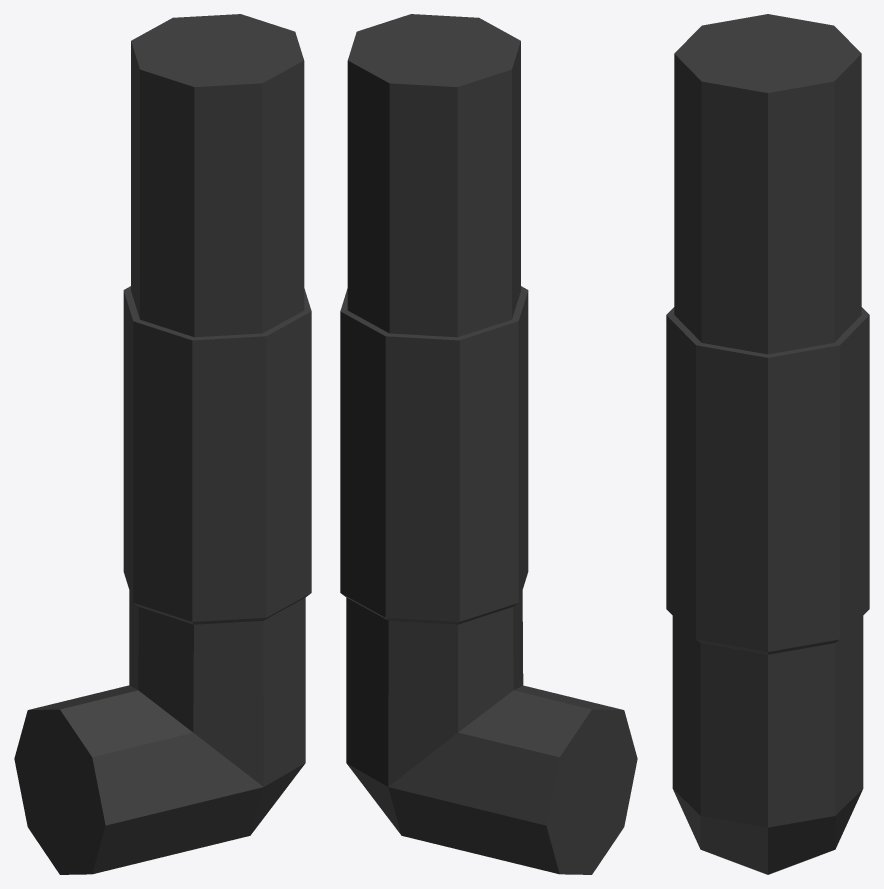
File: woodstovepipe01.gltf
3 views of the same model, side by side, from view 1: azimuth 30°, elevation 25°; view 2: azimuth 150°, elevation 25°; view 3: azimuth 270°, elevation 25° (orthographic). The views are drawn at different scales.
Visible parts, largest first — view 1: Cylinder; view 2: Cylinder; view 3: Cylinder.
Part boxes in pixels (box(x1,y1,x2,y2)): Cylinder: box(14, 14, 311, 874); Cylinder: box(340, 14, 637, 874); Cylinder: box(666, 14, 869, 874).
Size of the model in its own units: 0.3062 by 0.9504 by 0.2134.
Materials: 1 (1 with a texture image).
